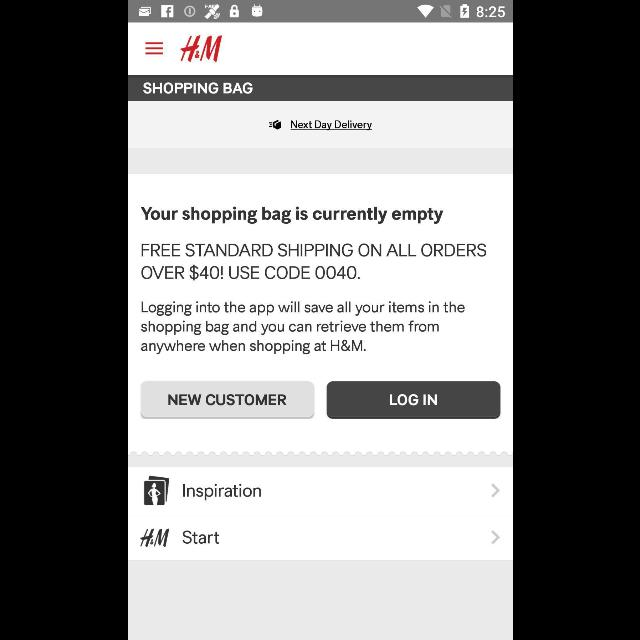icon: (145, 42, 163, 56), (490, 530, 500, 544), (490, 484, 500, 498), (268, 120, 282, 130)
image: (179, 36, 221, 62), (143, 475, 169, 505), (139, 528, 169, 548)
text: (140, 302, 464, 354), (140, 243, 486, 280), (140, 206, 442, 224), (182, 484, 262, 501), (142, 82, 252, 94), (182, 530, 218, 544)
textbutton: (140, 382, 314, 418), (326, 382, 500, 418), (290, 121, 372, 131)
toolbar: (128, 23, 512, 75)
uppertaskbar: (128, 1, 512, 23)
